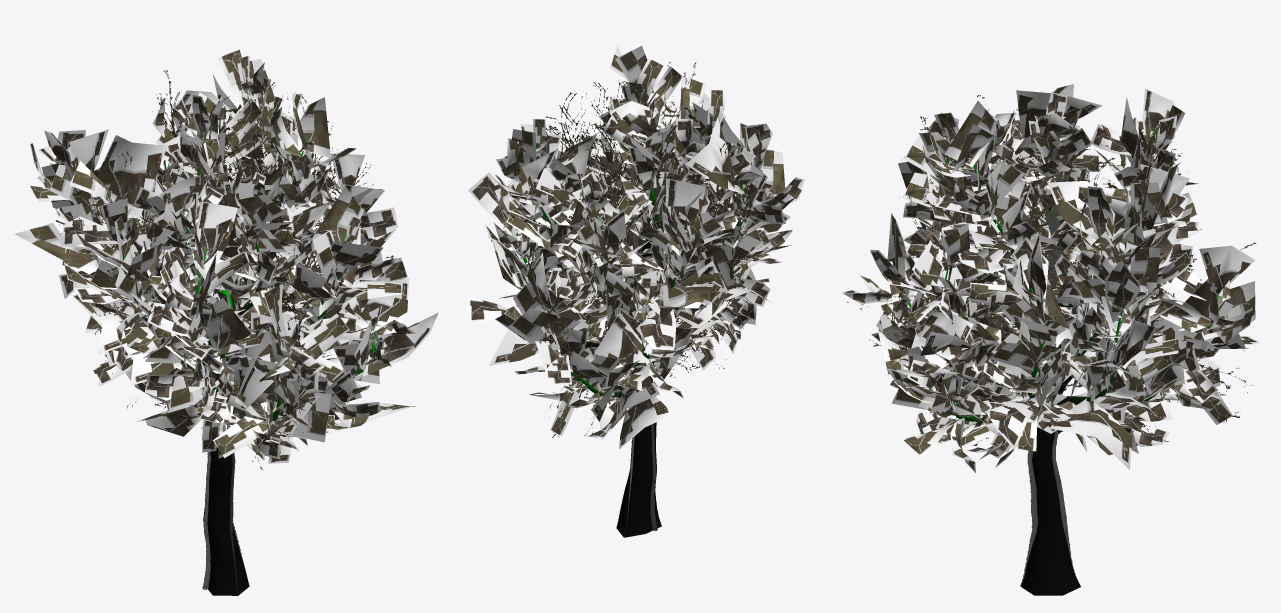
File: RTree2.fbx
The picture shows the model from 3 angles, left to right: view 1: azimuth 30°, elevation 25°; view 2: azimuth 150°, elevation 25°; view 3: azimuth 270°, elevation 25°; orthographic projection. The views are drawn at different scales.
Parts seen in each view (by area): view 1: LOD0, Billboard; view 2: LOD0, Billboard; view 3: LOD0, Billboard.
Boxes of the visible parts, x1,y1,x2,y2 form: LOD0: [15, 48, 438, 595]; Billboard: [59, 70, 393, 594]; LOD0: [467, 46, 804, 537]; Billboard: [489, 62, 784, 536]; LOD0: [842, 84, 1259, 595]; Billboard: [847, 95, 1256, 586].
Size of what is drawn, in the model's own units: 647 by 922 by 721.
